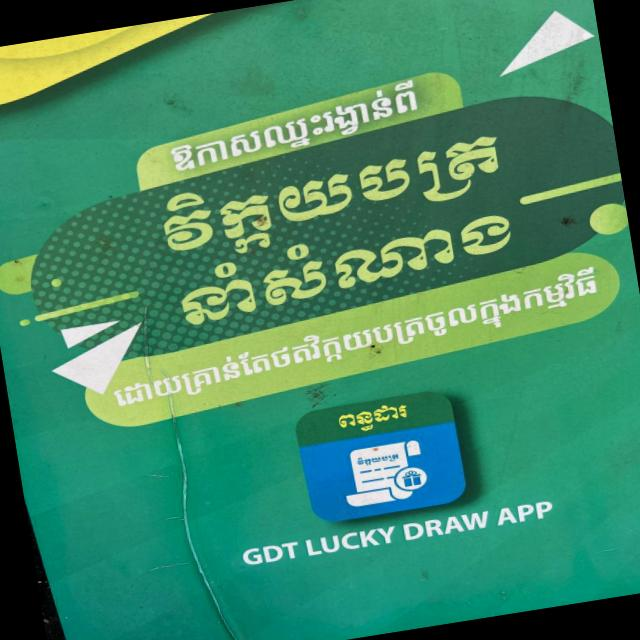Yolov11kh: (107, 259, 613, 418), (149, 117, 514, 277), (168, 193, 527, 340), (156, 74, 432, 187), (326, 398, 413, 439)
